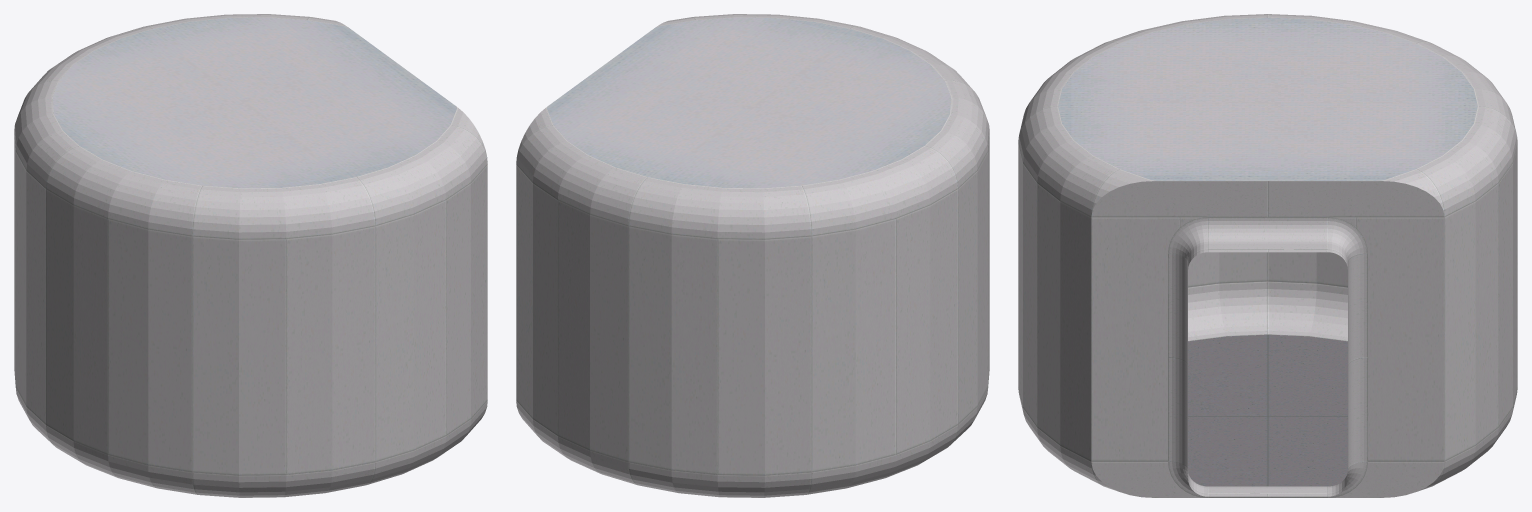
Rendered from thm_spc_corvette_dungeon_r8_spawnroom8_mesh_r8.fbx.
The picture shows the model from 3 angles, left to right: view 1: azimuth 30°, elevation 25°; view 2: azimuth 150°, elevation 25°; view 3: azimuth 270°, elevation 25°; orthographic projection. The views are drawn at different scales.
Visible parts, largest first — view 1: mesh_node; view 2: mesh_node; view 3: mesh_node.
Boxes of the visible parts, <box> form: mesh_node: <box>14,14,487,497</box>; mesh_node: <box>516,14,989,497</box>; mesh_node: <box>1018,14,1517,497</box>.
Bounding box in the file's own units: 4.67 × 3.5 × 5.
